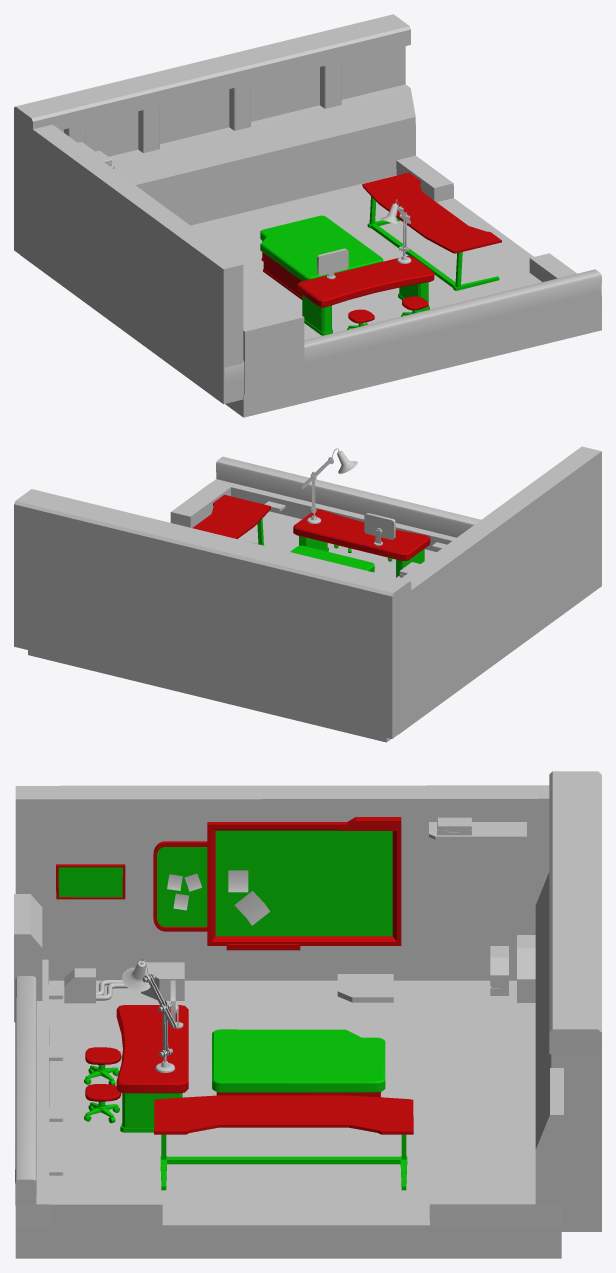
Rendered from Programming_Class.fbx.
The picture shows the model from 3 angles, top to bottom: view 1: azimuth 30°, elevation 25°; view 2: azimuth 150°, elevation 25°; view 3: azimuth 270°, elevation 25°; orthographic projection. The views are drawn at different scales.
Visible parts, largest first — view 1: programming wall3_L, programming wall2_L, p_floor_L, programming wall1_L, programming desk_2_L, P_central desk_L, programming desk1_L, programming wall2_L.001, programming wall1_L.001, programming chair_l, computer_L, programming lamp_L; view 2: programming wall3_L, programming wall2_L, programming wall1_L, p_floor_L, programming desk1_L, programming desk_2_L, programming wall1_L.001, P_central desk_L, computer_L, programming lamp_L; view 3: p_floor_L, programming wall2_L, programming wall3_L, programming board2_L, programming wall1_L, programming desk_2_L, P_central desk_L, programming desk1_L, programming board1_L, programming wall2_L.001, programming wall1_L.001, p_ monitor,pipe_L (+8 smaller).
Boxes of the visible parts, x1=… form: programming wall3_L: x1=14, y1=14, x2=415, y2=254; programming wall2_L: x1=20, y1=120, x2=243, y2=404; p_floor_L: x1=190, y1=175, x2=601, y2=417; programming wall1_L: x1=223, y1=269, x2=601, y2=398; programming desk_2_L: x1=362, y1=172, x2=501, y2=290; P_central desk_L: x1=260, y1=215, x2=383, y2=299; programming desk1_L: x1=297, y1=256, x2=434, y2=335; programming wall2_L.001: x1=396, y1=155, x2=453, y2=202; programming wall1_L.001: x1=529, y1=253, x2=576, y2=281; programming chair_l: x1=347, y1=296, x2=428, y2=329; computer_L: x1=317, y1=248, x2=348, y2=279; programming lamp_L: x1=380, y1=199, x2=411, y2=263; programming wall3_L: x1=14, y1=489, x2=411, y2=738; programming wall2_L: x1=398, y1=446, x2=601, y2=734; programming wall1_L: x1=212, y1=456, x2=480, y2=551; p_floor_L: x1=28, y1=511, x2=436, y2=742; programming desk1_L: x1=293, y1=509, x2=430, y2=577; programming desk_2_L: x1=192, y1=494, x2=270, y2=545; programming wall1_L.001: x1=170, y1=482, x2=230, y2=527; P_central desk_L: x1=290, y1=545, x2=374, y2=572; computer_L: x1=364, y1=513, x2=395, y2=545; programming lamp_L: x1=301, y1=448, x2=357, y2=523; p_floor_L: x1=15, y1=980, x2=561, y2=1258; programming wall2_L: x1=15, y1=785, x2=549, y2=980; programming wall3_L: x1=535, y1=771, x2=601, y2=1231; programming board2_L: x1=207, y1=817, x2=401, y2=950; programming wall1_L: x1=14, y1=894, x2=63, y2=1225; programming desk_2_L: x1=154, y1=1095, x2=413, y2=1190; P_central desk_L: x1=212, y1=1029, x2=385, y2=1097; programming desk1_L: x1=116, y1=1005, x2=188, y2=1132; programming board1_L: x1=153, y1=841, x2=207, y2=931; programming wall2_L.001: x1=429, y1=1191, x2=561, y2=1225; programming wall1_L.001: x1=49, y1=1191, x2=162, y2=1225; p_ monitor,pipe_L: x1=64, y1=962, x2=184, y2=1003.
Size of the model in its own units: 1136 by 1092 by 469.
